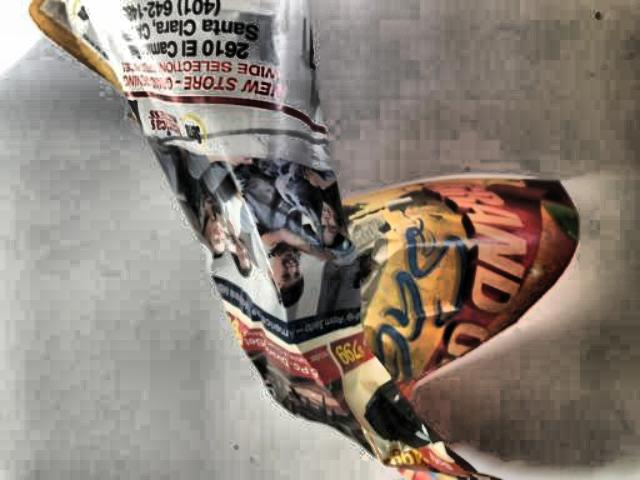Paper: (15, 0, 582, 480)
